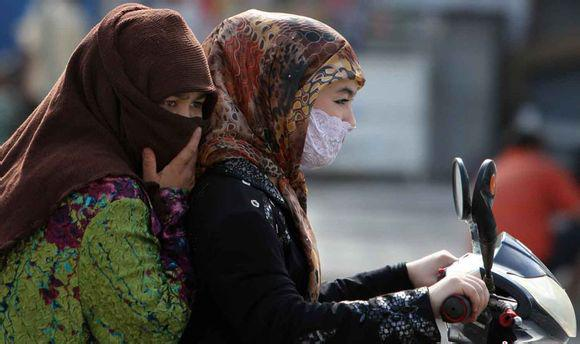OK: (134, 87, 208, 158)
WRONG: (284, 89, 359, 169)
